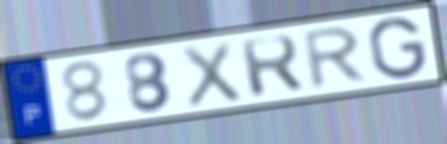8: (59, 58, 110, 123), (122, 52, 172, 113)
G: (366, 15, 429, 81)
R: (302, 23, 371, 92), (237, 33, 307, 100)
X: (178, 39, 245, 111)
